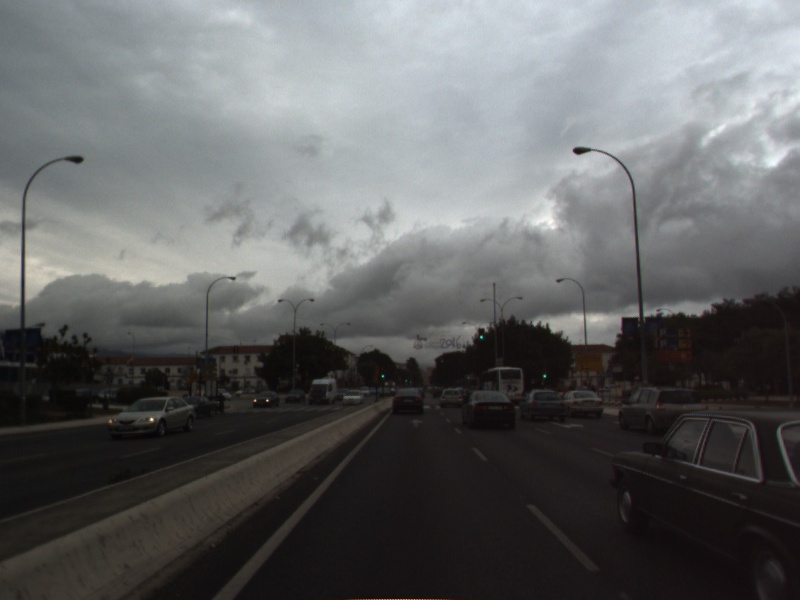STRAIGHT: (406, 417, 426, 429)
STRAIGHT_RIGHT: (547, 419, 585, 431)
